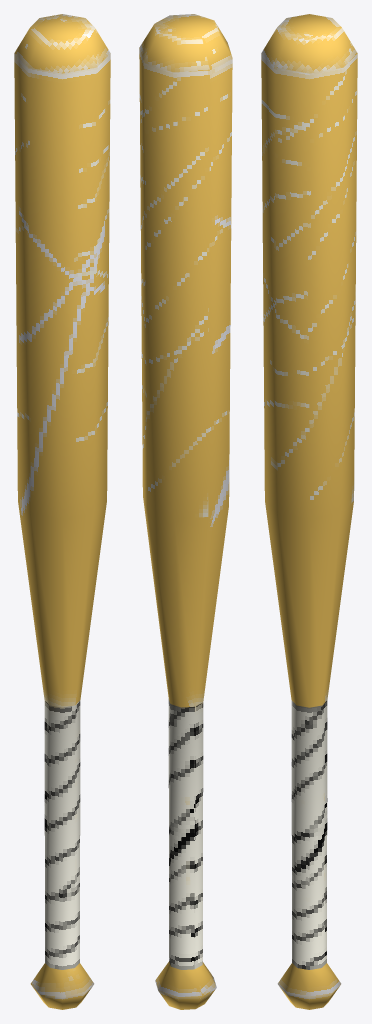
The model's file is Bat.glb.
3 renders of one model, left to right at view 1: azimuth 90°, elevation 25°; view 2: azimuth 210°, elevation 25°; view 3: azimuth 270°, elevation 25°, orthographic.
Parts seen in each view (by area): view 1: Bat; view 2: Bat; view 3: Bat.
Part boxes in pixels (x1,y1,x2,y2): Bat: (14, 14, 110, 1009); Bat: (139, 14, 232, 1009); Bat: (261, 14, 357, 1009).
Bounding box in the file's own units: 0.18 × 2.01 × 0.18.
1 material, 1 textured.
